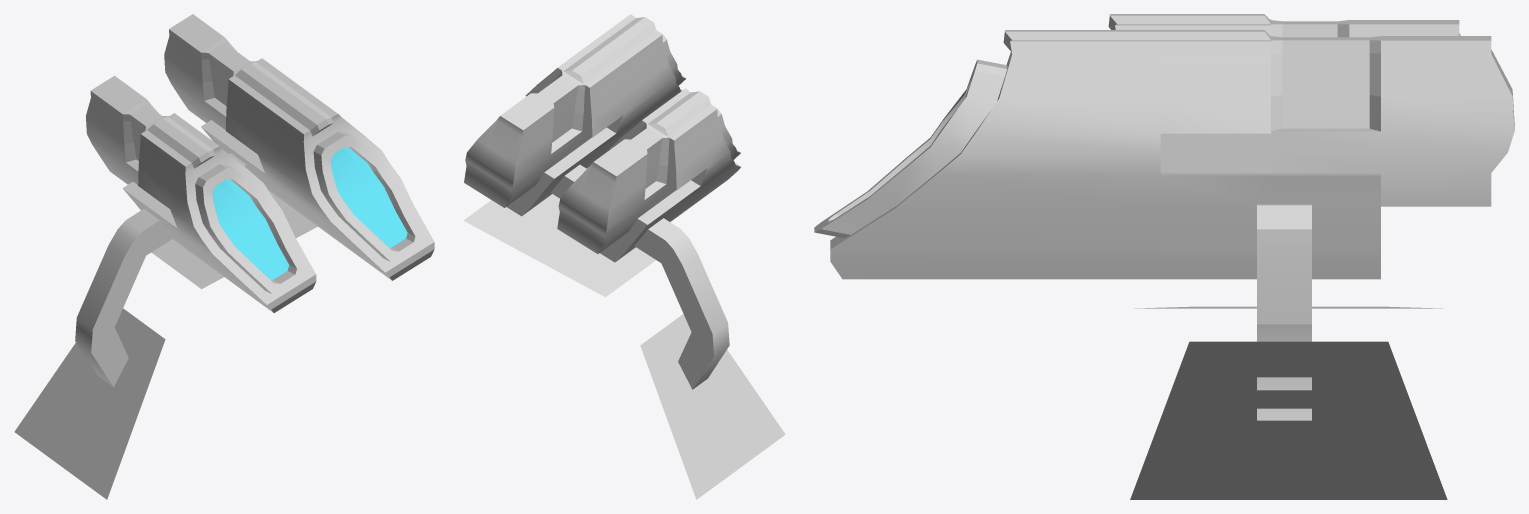
Rendered from Mod_Pauldron_R_Recon1.fbx.
3 renders of one model, left to right at view 1: azimuth 30°, elevation 25°; view 2: azimuth 150°, elevation 25°; view 3: azimuth 270°, elevation 25°, orthographic. The views are drawn at different scales.
Parts seen in each view (by area): view 1: Mod_Pauldron_R_Recon1; view 2: Mod_Pauldron_R_Recon1; view 3: Mod_Pauldron_R_Recon1.
Part boxes in pixels (x1,y1,x2,y2): Mod_Pauldron_R_Recon1: (14, 14, 434, 499); Mod_Pauldron_R_Recon1: (463, 14, 785, 499); Mod_Pauldron_R_Recon1: (814, 14, 1514, 499).
Size of the model in its own units: 246 by 312 by 318.
